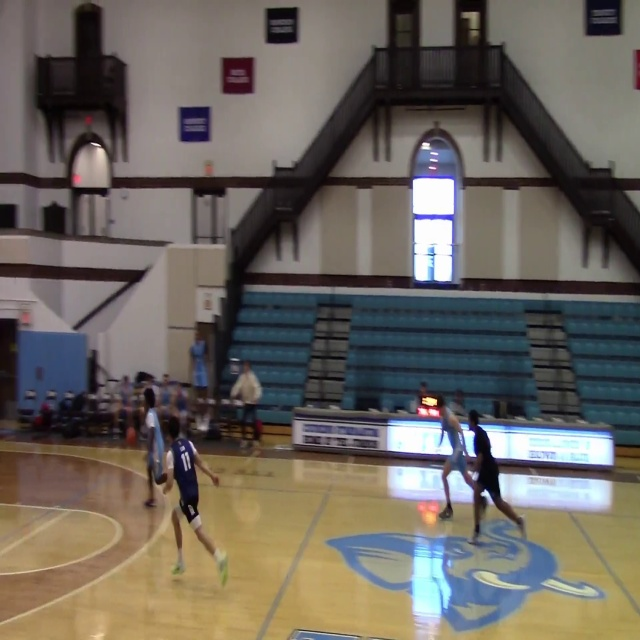Basketball: (155, 472, 168, 485)
